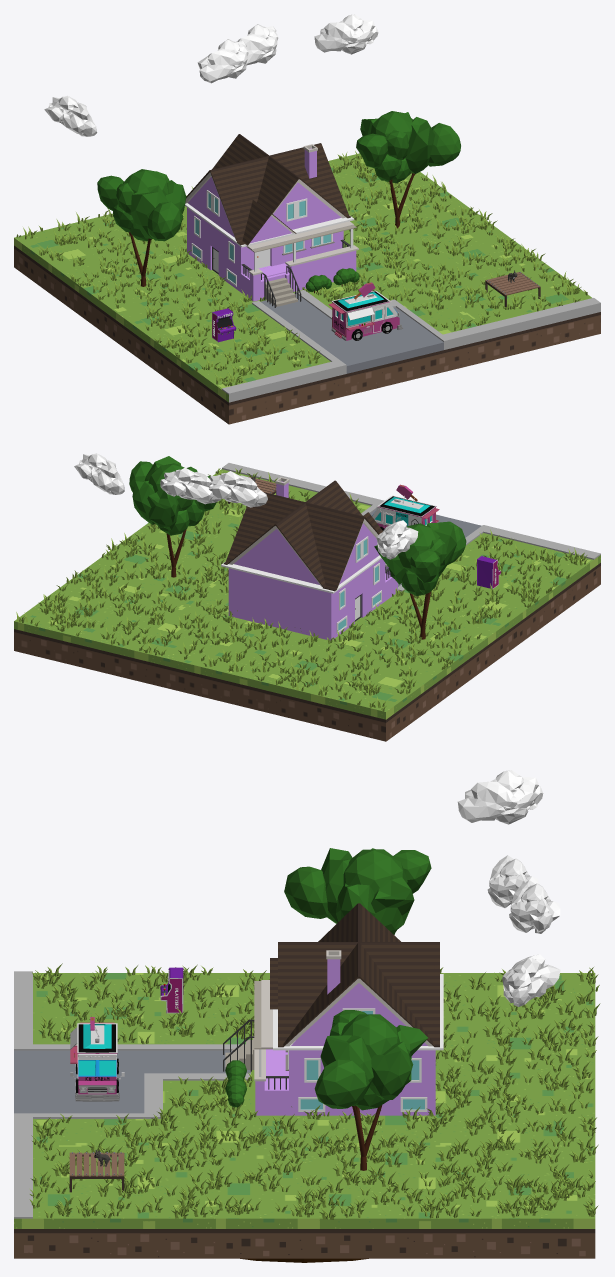
3 renders of one model, top to bottom at view 1: azimuth 30°, elevation 25°; view 2: azimuth 150°, elevation 25°; view 3: azimuth 270°, elevation 25°, orthographic. The views are drawn at different scales.
Parts seen in each view (by area): view 1: Cube.006, Cube.391, Circle.012_Grass_0.192, Cube.007, tree, tree.001, VEHICLES_ICE_CREAM_TRUCK, Cube.009, OBJRANDOM_ARCADE; view 2: Cube.006, Cube.391, Circle.012_Grass_0.192, Cube.007, tree.001, tree, VEHICLES_ICE_CREAM_TRUCK, OBJRANDOM_ARCADE; view 3: Cube.006, Circle.012_Grass_0.192, Cube.391, tree, Cube.007, tree.001, VEHICLES_ICE_CREAM_TRUCK, Cube.009, OBJRANDOM_ARCADE.
Part boxes in pixels (box(x1,y1,x2,y2)): Cube.006: box(14, 153, 600, 424); Cube.391: box(185, 134, 358, 307); Circle.012_Grass_0.192: box(16, 151, 587, 386); Cube.007: box(44, 14, 378, 136); tree: box(356, 111, 460, 228); tree.001: box(97, 169, 186, 286); VEHICLES_ICE_CREAM_TRUCK: box(328, 282, 402, 340); Cube.009: box(485, 272, 540, 306); OBJRANDOM_ARCADE: box(212, 308, 236, 342); Cube.006: box(14, 463, 600, 741); Cube.391: box(221, 477, 397, 640); Circle.012_Grass_0.192: box(16, 468, 587, 711); Cube.007: box(74, 453, 418, 559); tree.001: box(374, 521, 466, 639); tree: box(129, 456, 216, 577); VEHICLES_ICE_CREAM_TRUCK: box(372, 484, 439, 530); OBJRANDOM_ARCADE: box(477, 556, 501, 588); Cube.006: box(14, 971, 595, 1258); Circle.012_Grass_0.192: box(29, 963, 600, 1219); Cube.391: box(223, 903, 443, 1115); tree: box(314, 1010, 427, 1170); Cube.007: box(457, 770, 560, 1006); tree.001: box(284, 848, 431, 934); VEHICLES_ICE_CREAM_TRUCK: box(70, 1017, 124, 1101); Cube.009: box(69, 1152, 124, 1192); OBJRANDOM_ARCADE: box(160, 967, 183, 1013).
Size of the model in its own units: 4071 by 2242 by 4040.
52 materials, 3 textured.
